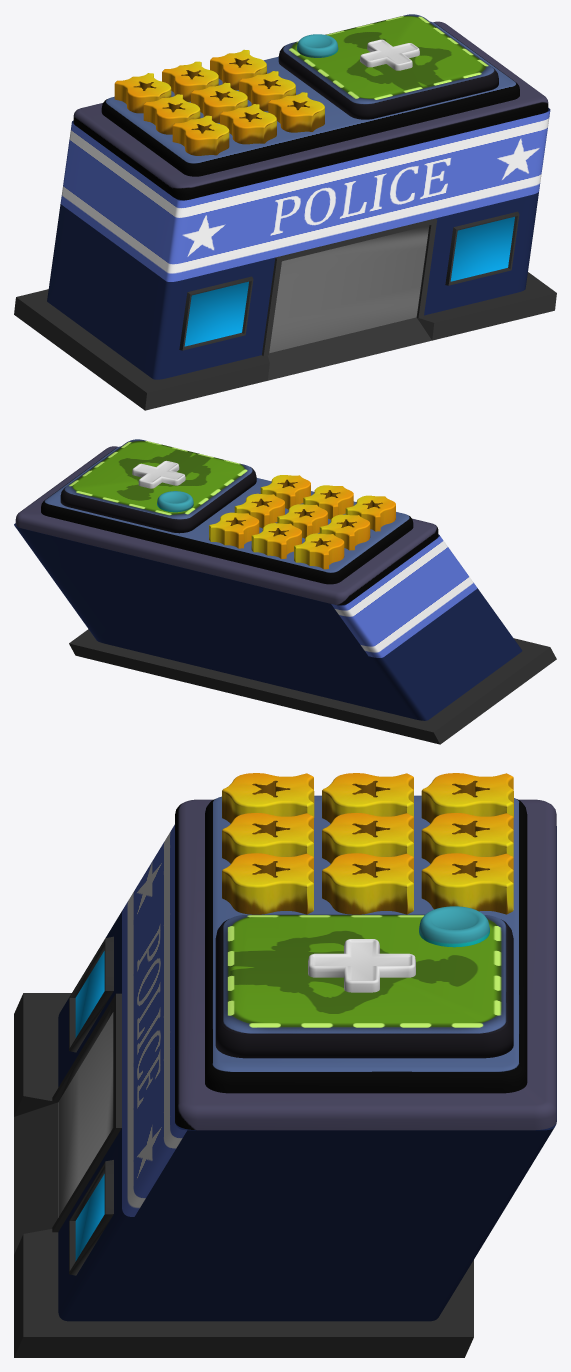
File: PoliceGarage+Hud.fbx
The picture shows the model from 3 angles, top to bottom: view 1: azimuth 30°, elevation 25°; view 2: azimuth 150°, elevation 25°; view 3: azimuth 270°, elevation 25°; orthographic projection. The views are drawn at different scales.
Parts seen in each view (by area): view 1: PoliceBuilding, ManagerIcon, MainPlane, ProcessIcon, Badge7, Badge8, Badge9, Badge1, Badge4, Badge6, Badge3, Badge2 (+3 smaller); view 2: PoliceBuilding, ManagerIcon, MainPlane, ProcessIcon, Badge1, Badge3, Badge2, Badge4, Badge7, Badge9, Badge6, Badge5 (+3 smaller); view 3: PoliceBuilding, ManagerIcon, MainPlane, ProcessIcon, Badge9, Badge6, Badge3, Badge2, Badge8, Badge5, Badge1, Badge7 (+3 smaller).
Part boxes in pixels (box(x1,y1,x2,y2)): PoliceBuilding: box(14, 108, 556, 410); ManagerIcon: box(278, 14, 498, 119); MainPlane: box(73, 21, 548, 200); ProcessIcon: box(101, 21, 519, 176); Badge7: box(172, 115, 229, 155); Badge8: box(220, 104, 276, 144); Badge9: box(268, 92, 324, 132); Badge1: box(114, 73, 171, 113); Badge4: box(143, 94, 200, 134); Badge6: box(239, 71, 295, 111); Badge3: box(210, 49, 266, 90); Badge2: box(162, 61, 218, 101); PoliceBuilding: box(14, 523, 556, 744); ManagerIcon: box(60, 439, 256, 533); MainPlane: box(15, 446, 438, 605); ProcessIcon: box(41, 446, 413, 584); Badge1: box(294, 533, 344, 569); Badge3: box(209, 512, 259, 548); Badge2: box(251, 523, 301, 558); Badge4: box(319, 514, 370, 550); Badge7: box(345, 495, 395, 531); Badge9: box(260, 475, 310, 509); Badge6: box(234, 493, 284, 528); Badge5: box(277, 504, 327, 538); PoliceBuilding: box(14, 824, 556, 1357); ManagerIcon: box(215, 914, 513, 1058); MainPlane: box(175, 799, 556, 1130); ProcessIcon: box(205, 795, 527, 1093); Badge9: box(222, 853, 313, 914); Badge6: box(322, 853, 413, 914); Badge3: box(421, 853, 513, 914); Badge2: box(421, 813, 513, 863); Badge8: box(222, 813, 313, 863); Badge5: box(322, 813, 413, 863); Badge1: box(421, 773, 513, 823); Badge7: box(222, 773, 314, 823).
Size of the model in its own units: 610 by 367 by 259.
